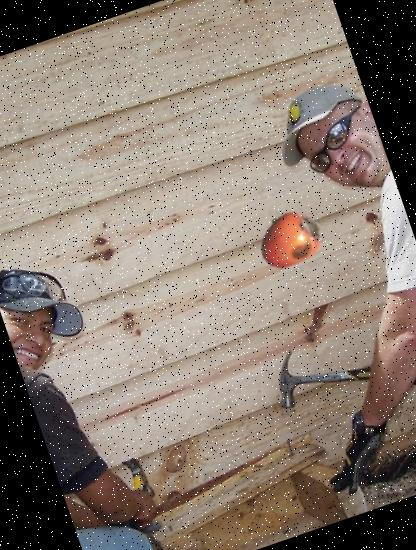Kaki: (247, 194, 335, 282)
